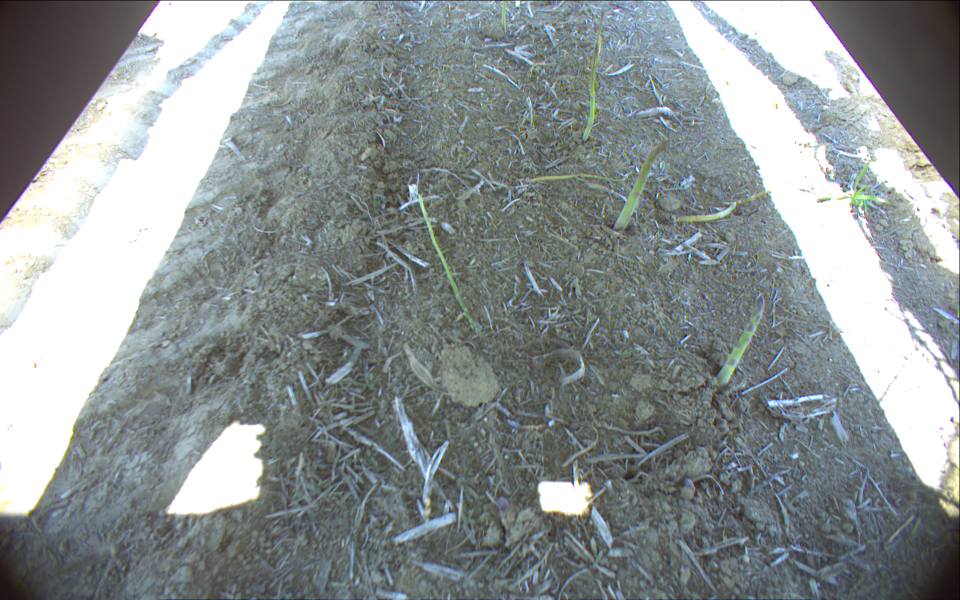aspa: (610, 137, 671, 233), (711, 294, 767, 390), (578, 9, 608, 143), (498, 1, 514, 32)
